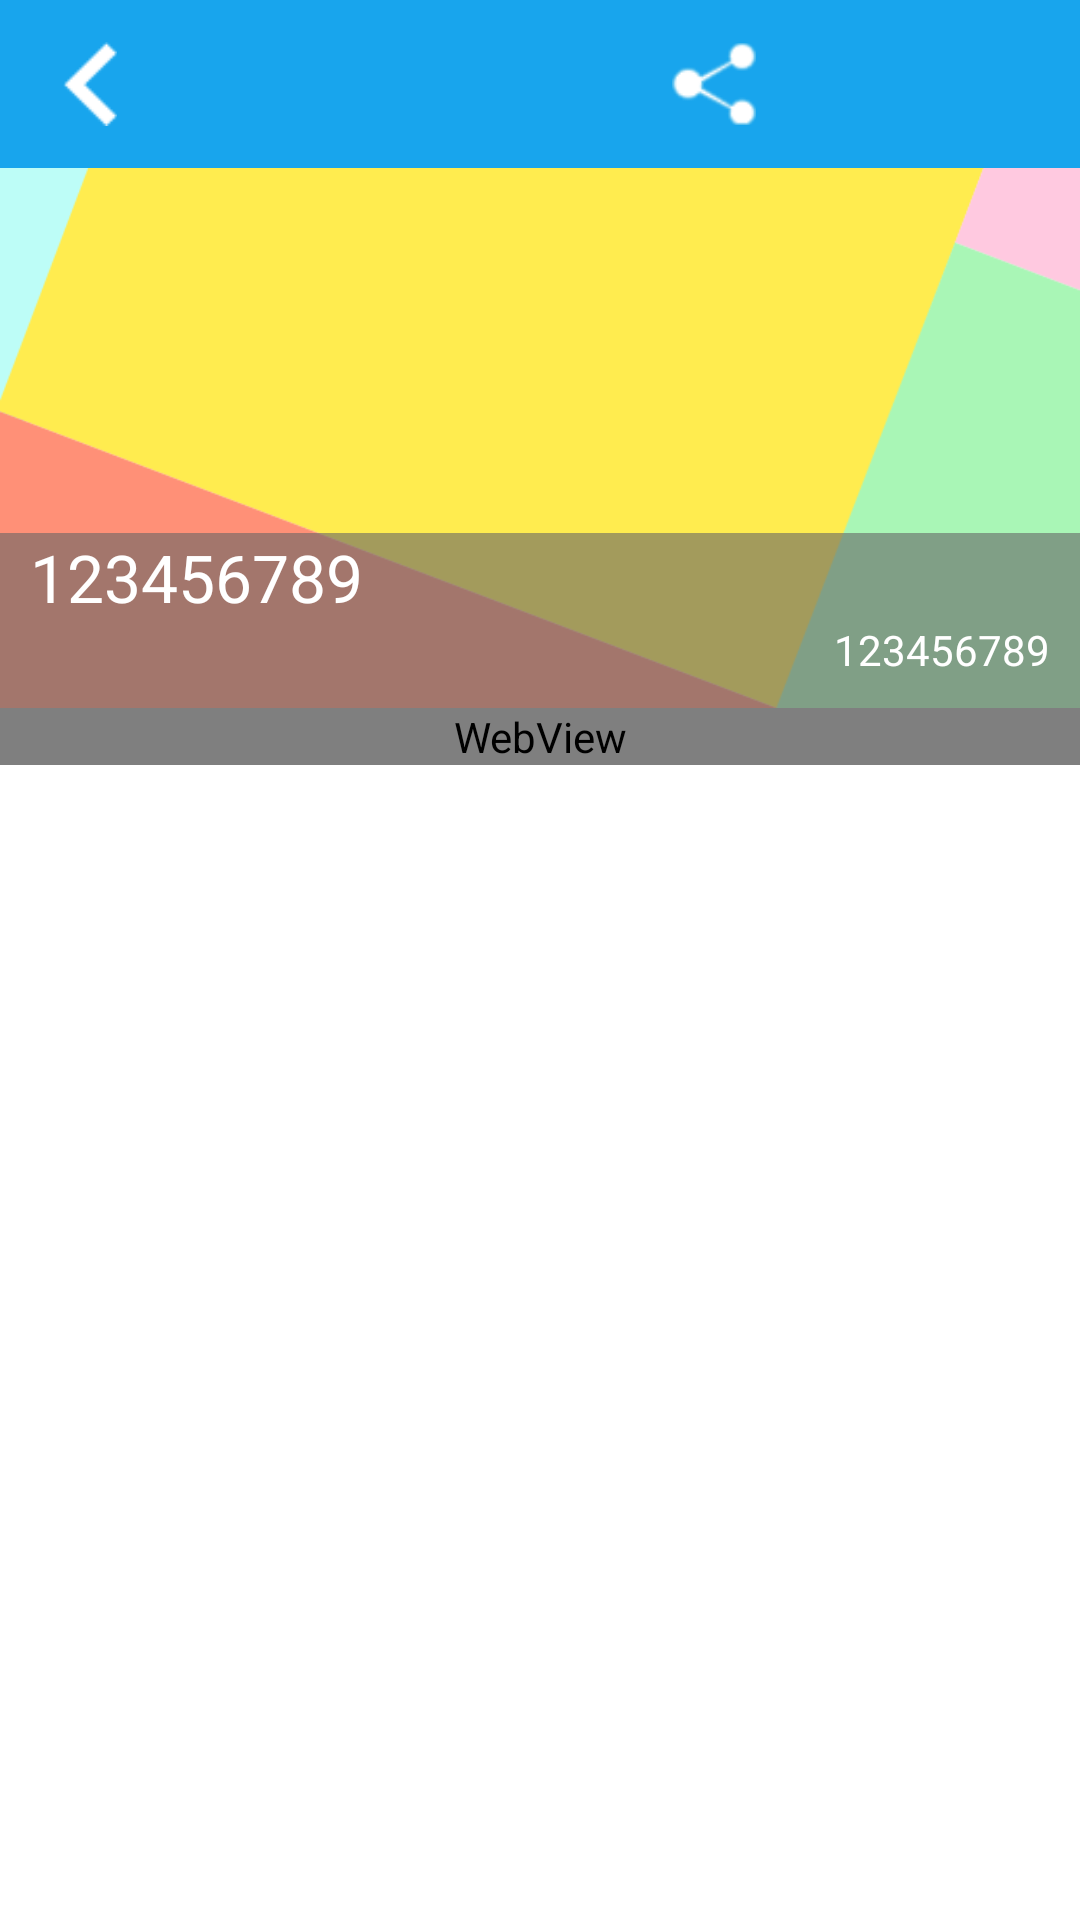

Locate icon controls on the screen. Image size 1080px x 1920px, boxes as (x1, y1, x2, y2).
back: (64, 42, 117, 126)
share: (672, 43, 756, 125)
